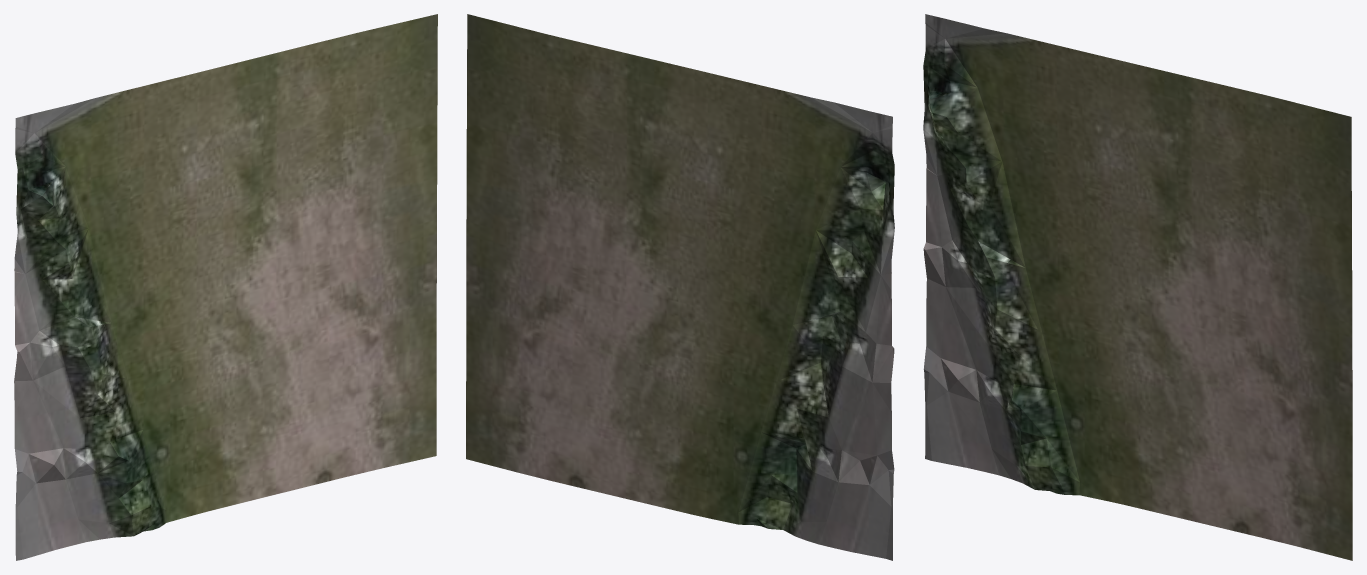
The model's file is Tile_+032_+022_L19_000330.obj.
The picture shows the model from 3 angles, left to right: view 1: azimuth 30°, elevation 25°; view 2: azimuth 150°, elevation 25°; view 3: azimuth 330°, elevation 25°; orthographic projection.
Size of the model in its own units: 31.75 by 31.75 by 2.36.
Materials: 1 (1 with a texture image).
